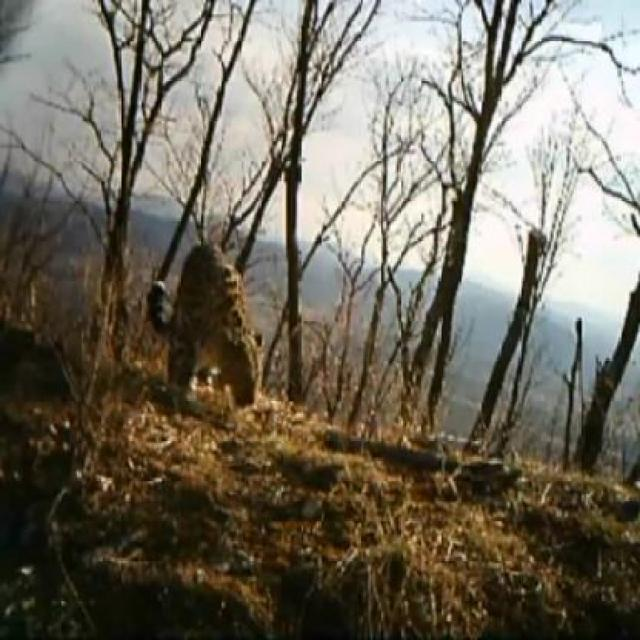Leopard: (162, 205, 258, 426)
